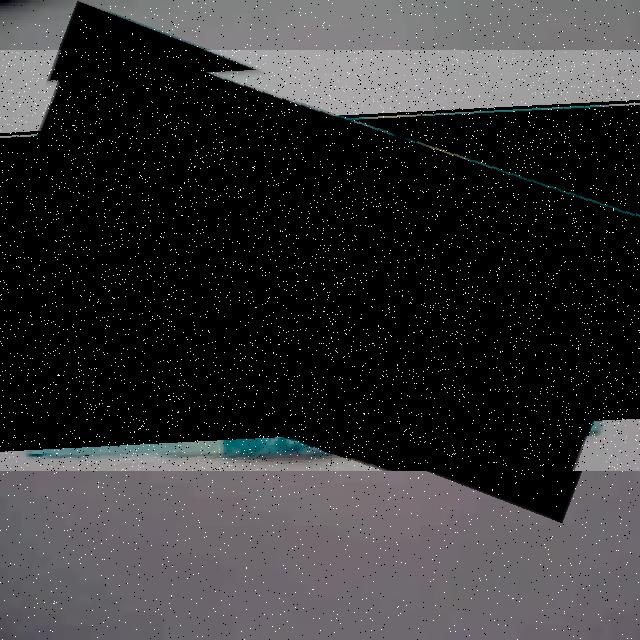dua ribu rupiah: (0, 50, 640, 471)
